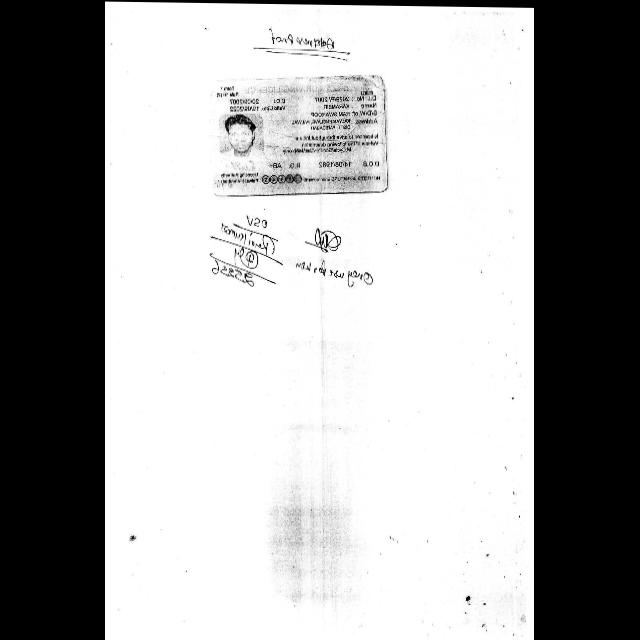driving_licence: (203, 69, 395, 208)
